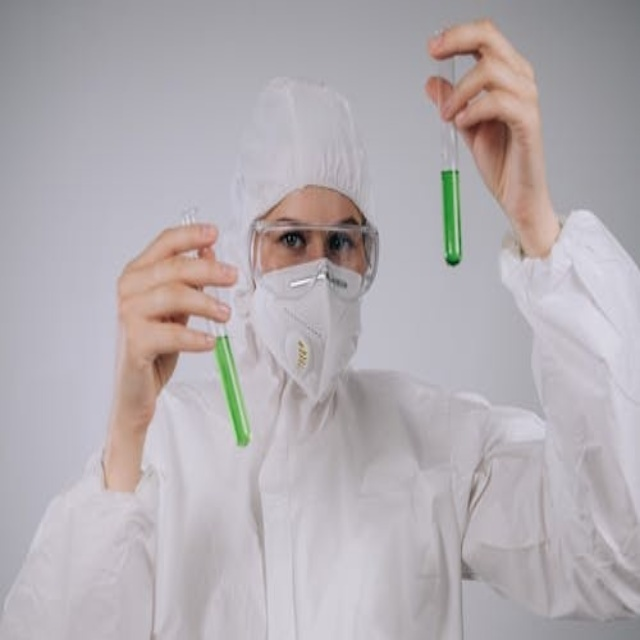Gafas: (247, 219, 379, 300)
Mascara: (247, 250, 365, 405)
Sin_guantes: (422, 16, 551, 252), (110, 219, 237, 434)
